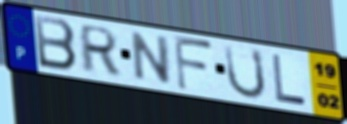B: (32, 13, 79, 73)
F: (172, 33, 217, 94)
L: (270, 52, 309, 108)
N: (130, 29, 173, 86)
R: (79, 23, 121, 77)
U: (223, 42, 268, 101)
